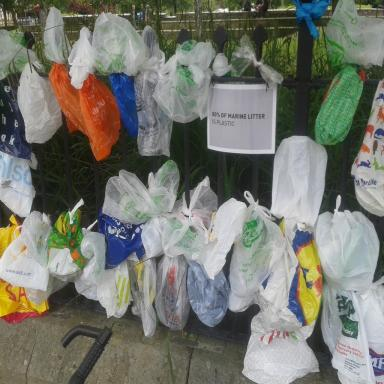plasticbag: (307, 6, 384, 85), (270, 133, 330, 231), (160, 40, 224, 128), (251, 306, 319, 384), (110, 162, 186, 228), (54, 64, 114, 145), (316, 207, 376, 287), (57, 213, 114, 295), (182, 255, 247, 318), (14, 68, 66, 142), (200, 204, 254, 265), (10, 213, 50, 294), (94, 20, 154, 74), (152, 254, 194, 329), (44, 8, 73, 61)
